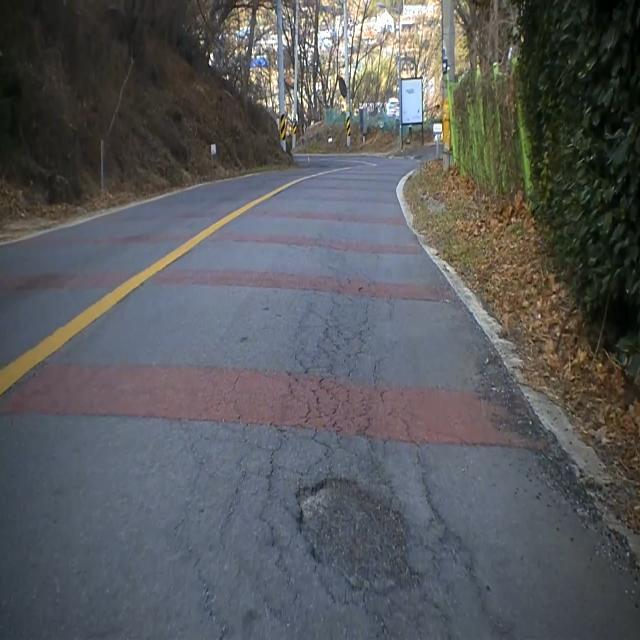Buraco: (290, 475, 430, 600)
